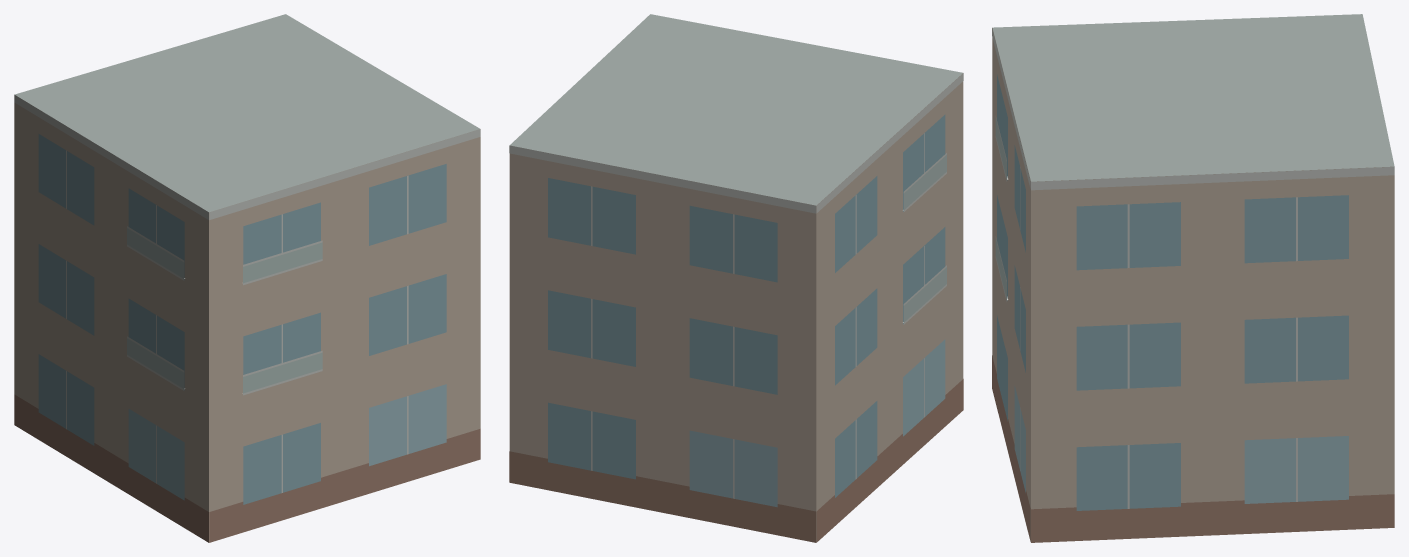
Rendered from survey-upis-32927325.glb.
The picture shows the model from 3 angles, left to right: view 1: azimuth 30°, elevation 25°; view 2: azimuth 150°, elevation 25°; view 3: azimuth 270°, elevation 25°; orthographic projection. The views are drawn at different scales.
Visible parts, largest first — view 1: survey-upis-32927325.tmp; view 2: survey-upis-32927325.tmp; view 3: survey-upis-32927325.tmp.
Part boxes in pixels (bbox=[...]): survey-upis-32927325.tmp: bbox=[14, 14, 480, 542]; survey-upis-32927325.tmp: bbox=[509, 14, 963, 542]; survey-upis-32927325.tmp: bbox=[992, 14, 1394, 542].
Size of the model in its own units: 10.17 by 10.2 by 10.31.
